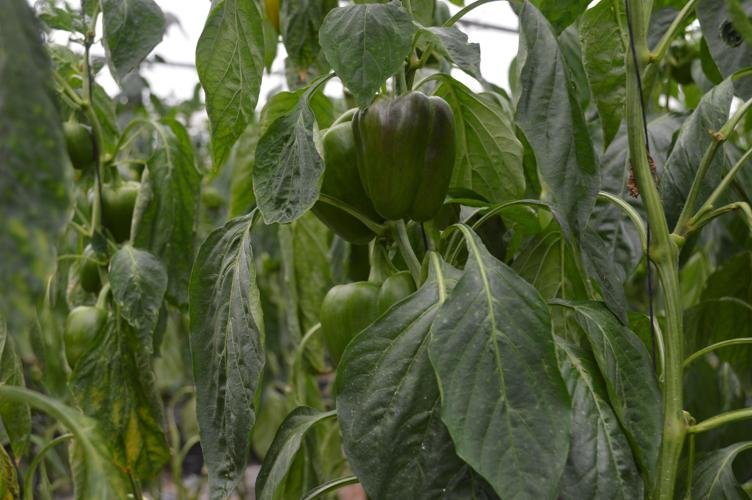BellPepper: (285, 121, 387, 261), (350, 97, 459, 227), (308, 271, 415, 366), (55, 304, 119, 373), (55, 115, 103, 192), (92, 179, 145, 244), (63, 246, 106, 293)
